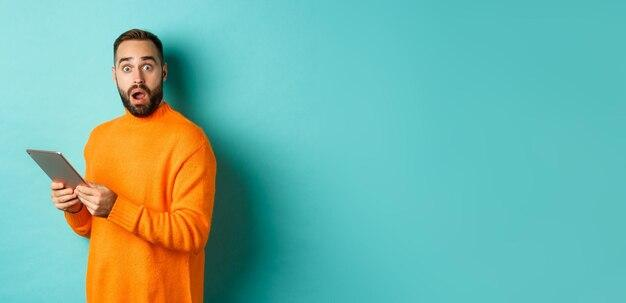sweater: (62, 99, 217, 303)
